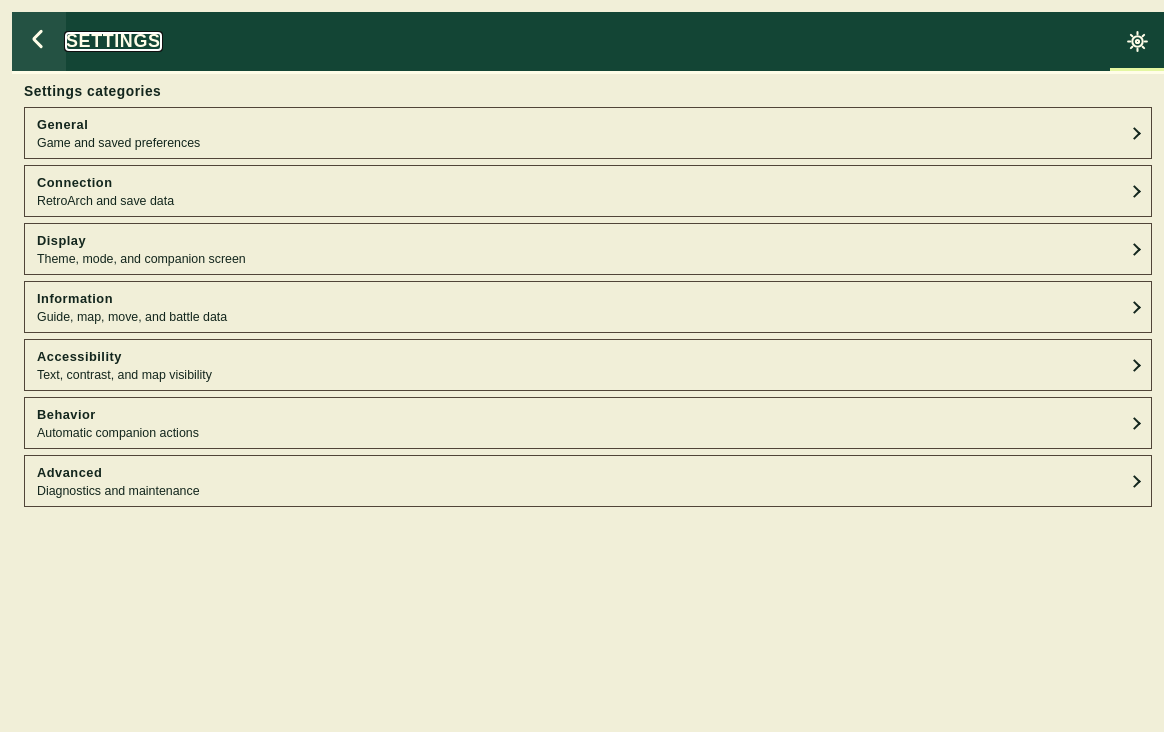
Test: production settings copy › disables the capability report when no ROM is loaded
The width and height of the screenshot is (1164, 732).
Click the button "Advanced Diagnostics and maintenance". click: (70, 472)
box: 24,455 -> 1152,507
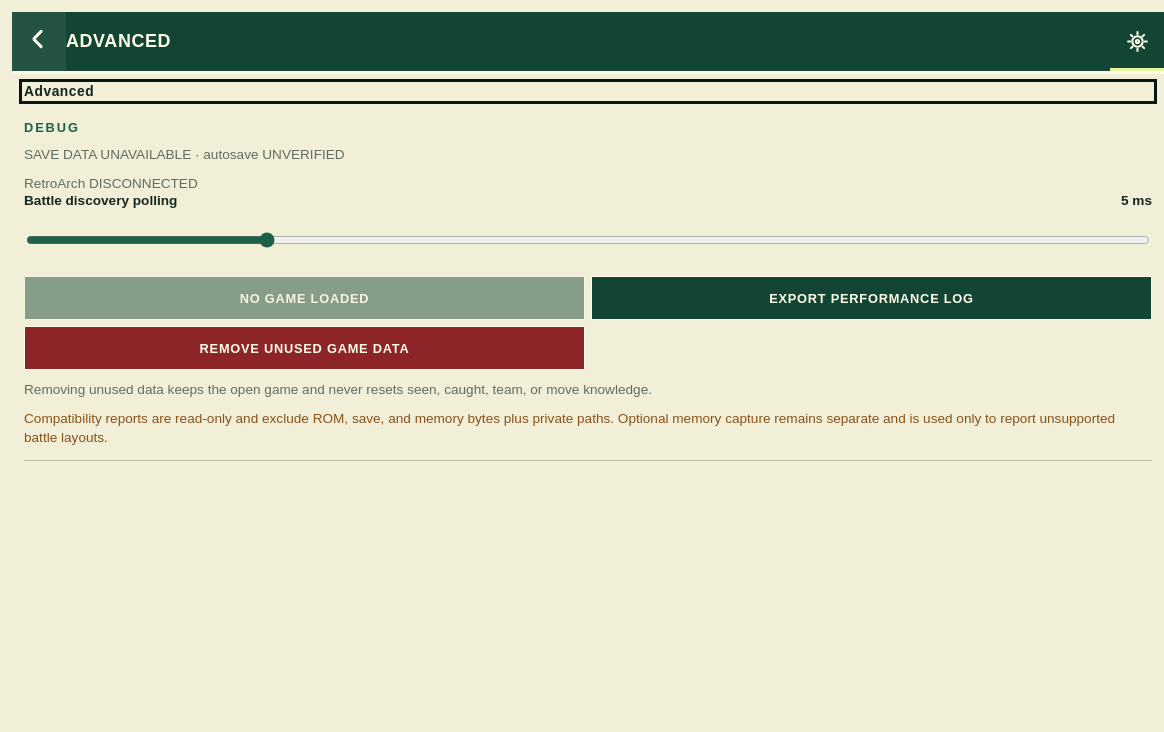
Now the button "NO GAME LOADED" is disabled, box 24,276 -> 585,320
Click the button named "Back". click: (39, 42)
box: 12,12 -> 66,71
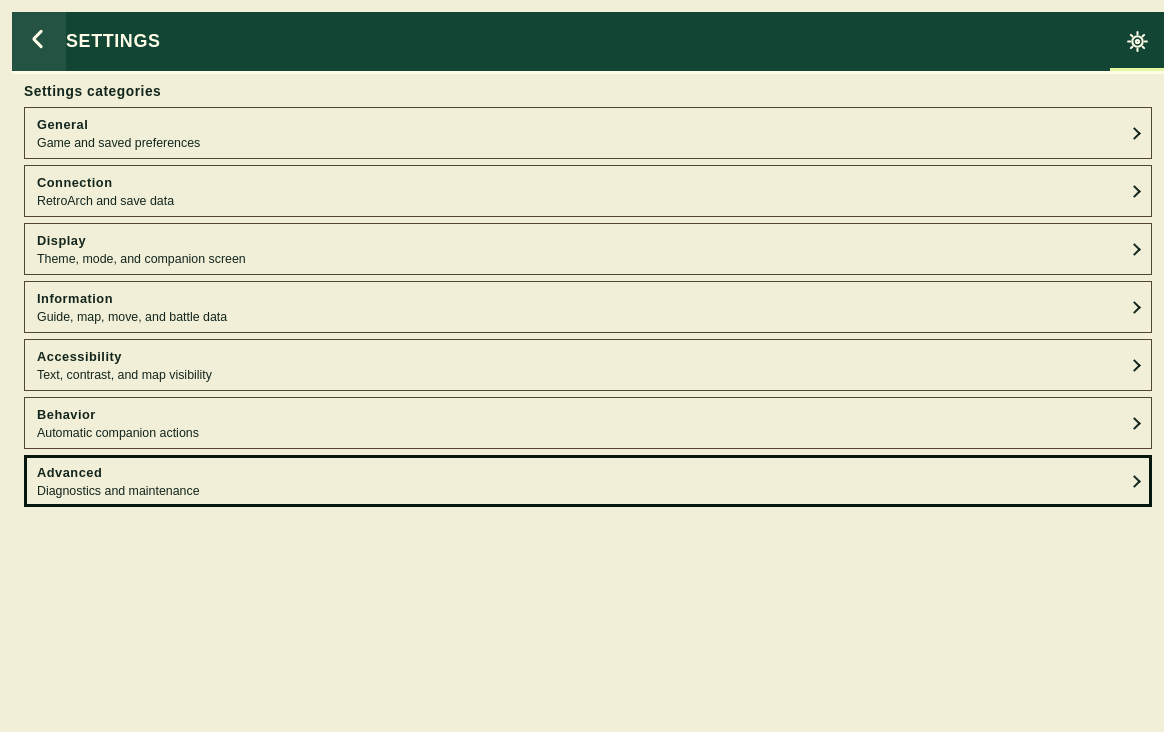
Click the button "General Game and saved preferences". click: (63, 124)
box: 24,107 -> 1152,159
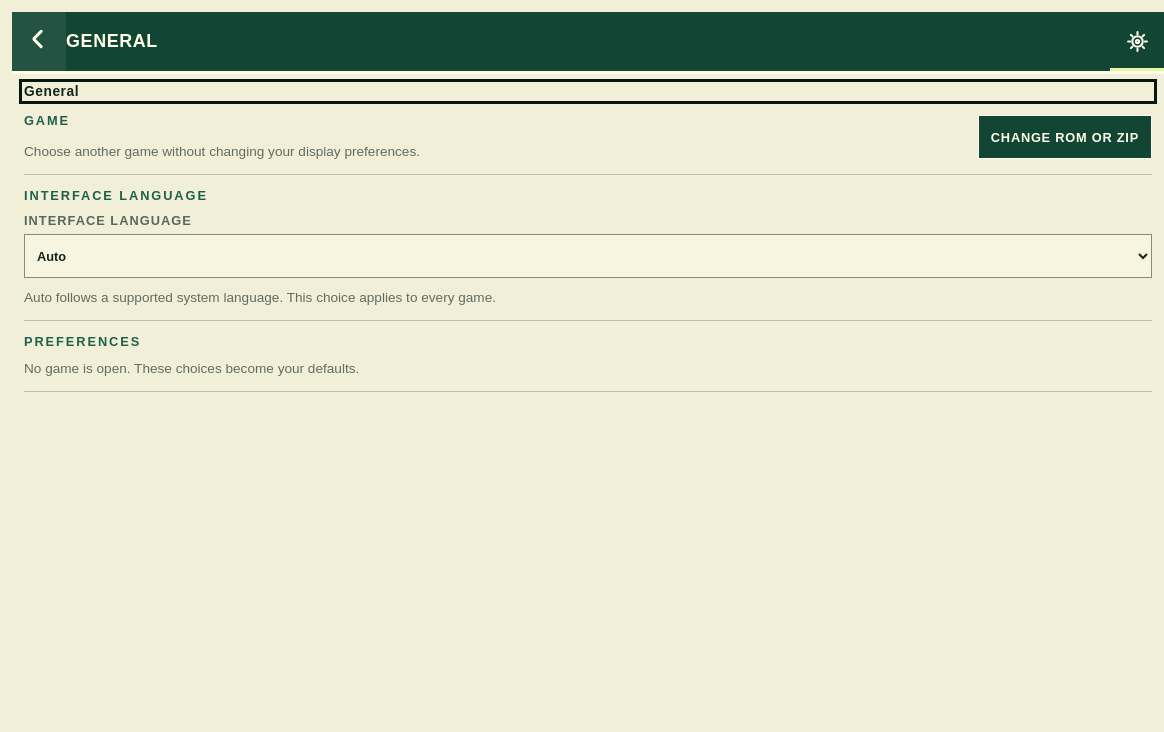
Now the text "No game is open. These choices become your defaults." is shown, box 24,361 -> 359,376
